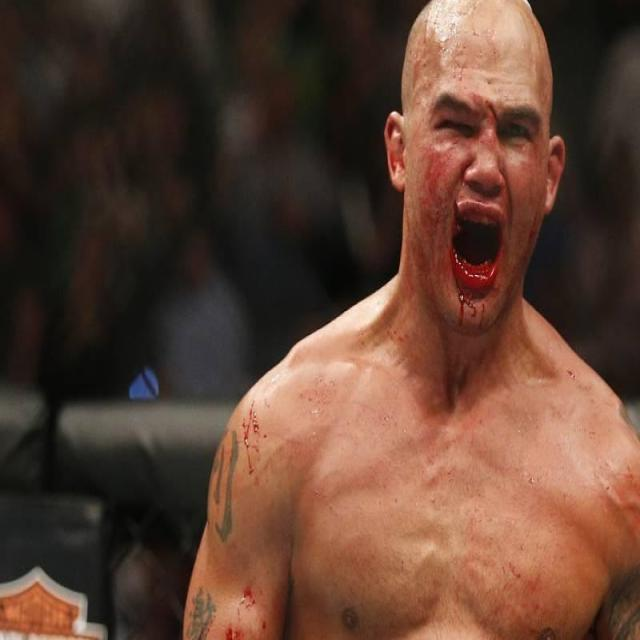flood: (421, 186, 544, 348)
